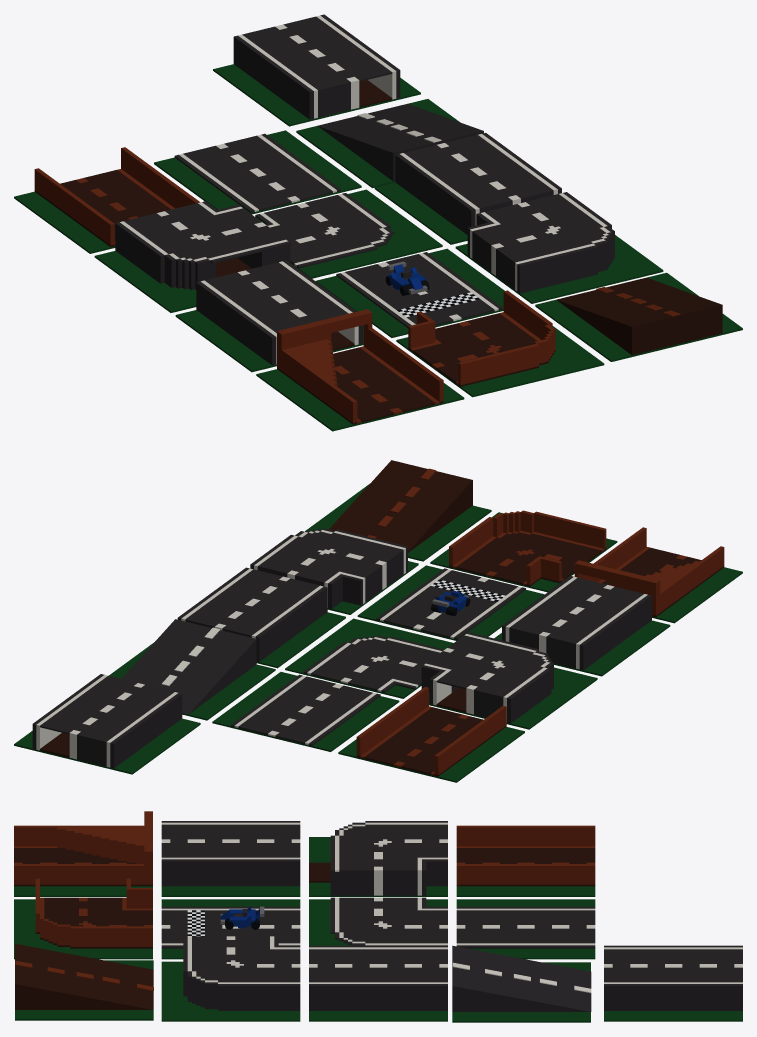
3 views of the same model, one above another, from view 1: azimuth 30°, elevation 25°; view 2: azimuth 150°, elevation 25°; view 3: azimuth 270°, elevation 25° (orthographic). The views are drawn at different scales.
Parts seen in each view (by area): view 1: Wedge1, Wedge11, SmoothBlockModel392, SmoothBlockModel266, SmoothBlockModel356, SmoothBlockModel90, SmoothBlockModel170, SmoothBlockModel32, SmoothBlockModel242, SmoothBlockModel245, SmoothBlockModel1, SmoothBlockModel151 (+42 smaller); view 2: Wedge1, Wedge11, SmoothBlockModel356, SmoothBlockModel392, SmoothBlockModel150, SmoothBlockModel266, SmoothBlockModel90, SmoothBlockModel389, SmoothBlockModel151, SmoothBlockModel242, SmoothBlockModel245, SmoothBlockModel348 (+40 smaller); view 3: Wedge11, Wedge1, SmoothBlockModel134, SmoothBlockModel246, SmoothBlockModel383, SmoothBlockModel361, SmoothBlockModel360, SmoothBlockModel32, SmoothBlockModel233, SmoothBlockModel356, SmoothBlockModel170, SmoothBlockModel10 (+63 smaller).
Boxes of the visible parts, bbox=[...] form: Wedge1: bbox=[556, 277, 722, 355]; Wedge11: bbox=[317, 103, 483, 181]; SmoothBlockModel392: bbox=[242, 26, 350, 117]; SmoothBlockModel266: bbox=[255, 189, 442, 278]; SmoothBlockModel356: bbox=[154, 130, 361, 214]; SmoothBlockModel90: bbox=[315, 248, 504, 337]; SmoothBlockModel170: bbox=[396, 326, 604, 397]; SmoothBlockModel32: bbox=[455, 235, 663, 303]; SmoothBlockModel242: bbox=[404, 145, 512, 212]; SmoothBlockModel245: bbox=[445, 135, 553, 202]; SmoothBlockModel1: bbox=[535, 272, 742, 361]; SmoothBlockModel151: bbox=[196, 281, 276, 365]; Wedge1: bbox=[329, 460, 472, 552]; Wedge11: bbox=[121, 619, 256, 714]; SmoothBlockModel356: bbox=[212, 672, 399, 751]; SmoothBlockModel392: bbox=[77, 684, 174, 766]; SmoothBlockModel150: bbox=[546, 586, 643, 668]; SmoothBlockModel266: bbox=[285, 618, 453, 698]; SmoothBlockModel90: bbox=[357, 565, 544, 640]; SmoothBlockModel389: bbox=[110, 693, 182, 768]; SmoothBlockModel151: bbox=[579, 594, 651, 670]; SmoothBlockModel242: bbox=[222, 578, 319, 637]; SmoothBlockModel245: bbox=[185, 569, 282, 627]; SmoothBlockModel348: bbox=[275, 685, 372, 744]; Wedge11: bbox=[452, 945, 591, 1011]; Wedge1: bbox=[15, 944, 153, 1009]; SmoothBlockModel134: bbox=[161, 859, 300, 886]; SmoothBlockModel246: bbox=[309, 984, 447, 1010]; SmoothBlockModel383: bbox=[604, 984, 742, 1010]; SmoothBlockModel361: bbox=[456, 825, 595, 846]; SmoothBlockModel360: bbox=[456, 864, 595, 884]; SmoothBlockModel32: bbox=[161, 961, 300, 1021]; SmoothBlockModel233: bbox=[14, 864, 144, 884]; SmoothBlockModel356: bbox=[456, 899, 595, 959]; SmoothBlockModel170: bbox=[14, 899, 152, 959]; SmoothBlockModel10: bbox=[218, 984, 300, 1010].
Bounding box in the file's own units: 100 × 9.4 × 168.
